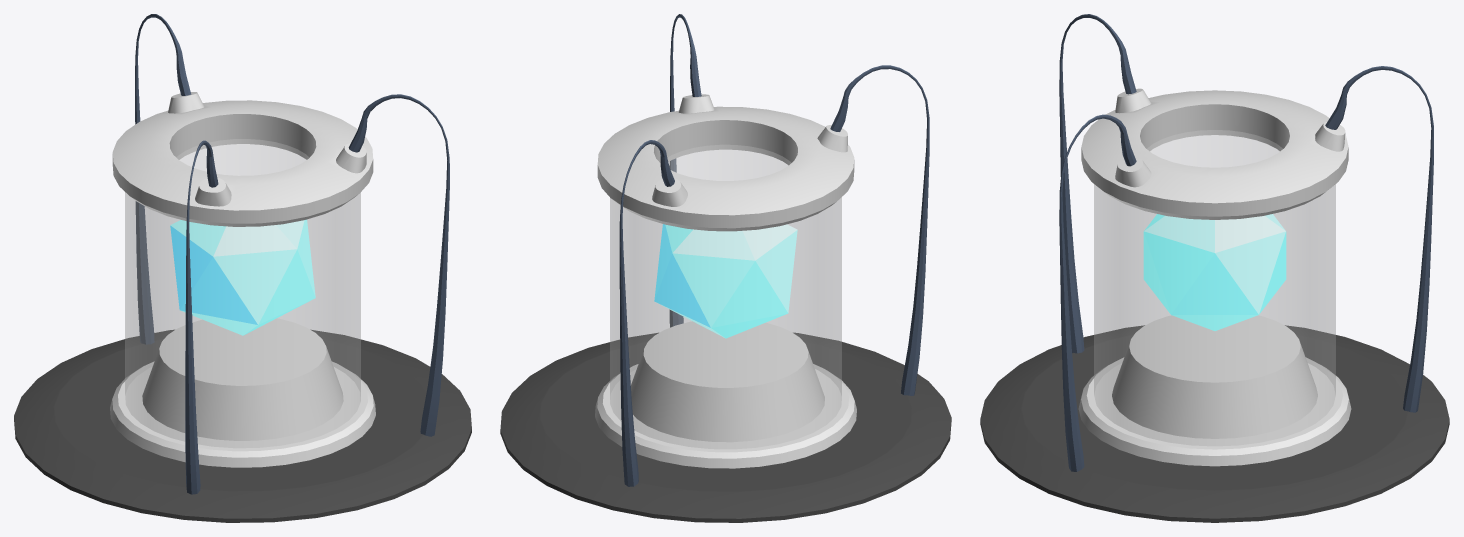
Rendered from OmniteCell.glb.
3 views of the same model, side by side, from view 1: azimuth 30°, elevation 25°; view 2: azimuth 150°, elevation 25°; view 3: azimuth 270°, elevation 25° (orthographic). The views are drawn at different scales.
Visible parts, largest first — view 1: Container, Base plate, Base, Top, Icosphere, Cables; view 2: Container, Base plate, Base, Top, Icosphere, Cables; view 3: Container, Base plate, Base, Top, Icosphere, Cables.
Part boxes in pixels (left/top/right/bottom): Container: left=125, top=139, right=360, bottom=447; Base plate: left=14, top=329, right=471, bottom=522; Base: left=110, top=318, right=375, bottom=467; Top: left=112, top=92, right=373, bottom=226; Icosphere: left=170, top=219, right=315, bottom=335; Cables: left=135, top=14, right=449, bottom=494; Container: left=610, top=145, right=841, bottom=448; Base plate: left=500, top=332, right=951, bottom=522; Base: left=595, top=321, right=856, bottom=468; Top: left=597, top=94, right=854, bottom=231; Icosphere: left=654, top=224, right=797, bottom=338; Cables: left=619, top=14, right=929, bottom=486; Container: left=1094, top=130, right=1335, bottom=445; Base plate: left=980, top=325, right=1449, bottom=522; Base: left=1078, top=315, right=1351, bottom=466; Top: left=1081, top=88, right=1348, bottom=219; Icosphere: left=1143, top=214, right=1286, bottom=330; Cables: left=1059, top=14, right=1433, bottom=471.
Size of the model in its own units: 2 by 1.73 by 2.
